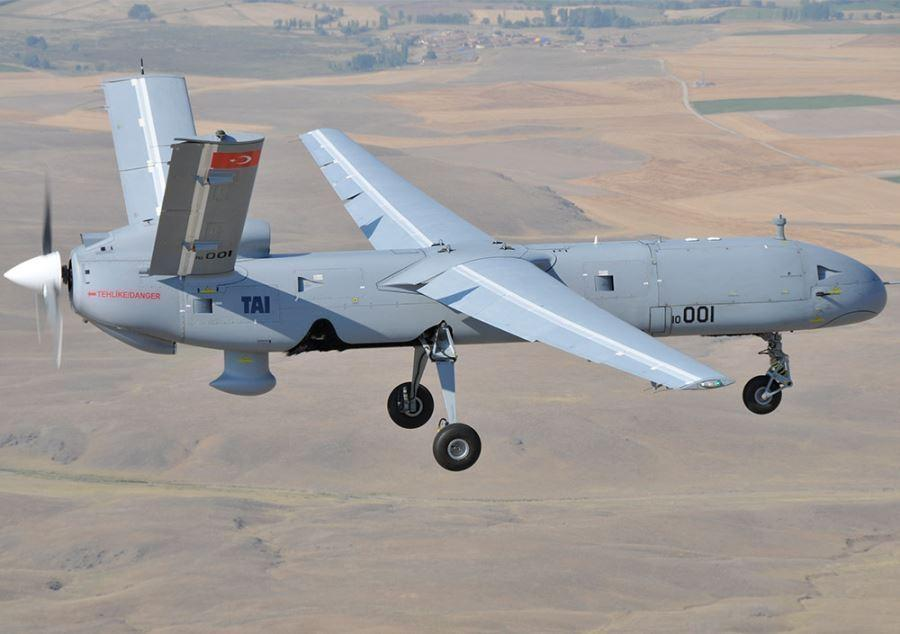Airplane: (6, 44, 892, 474)
